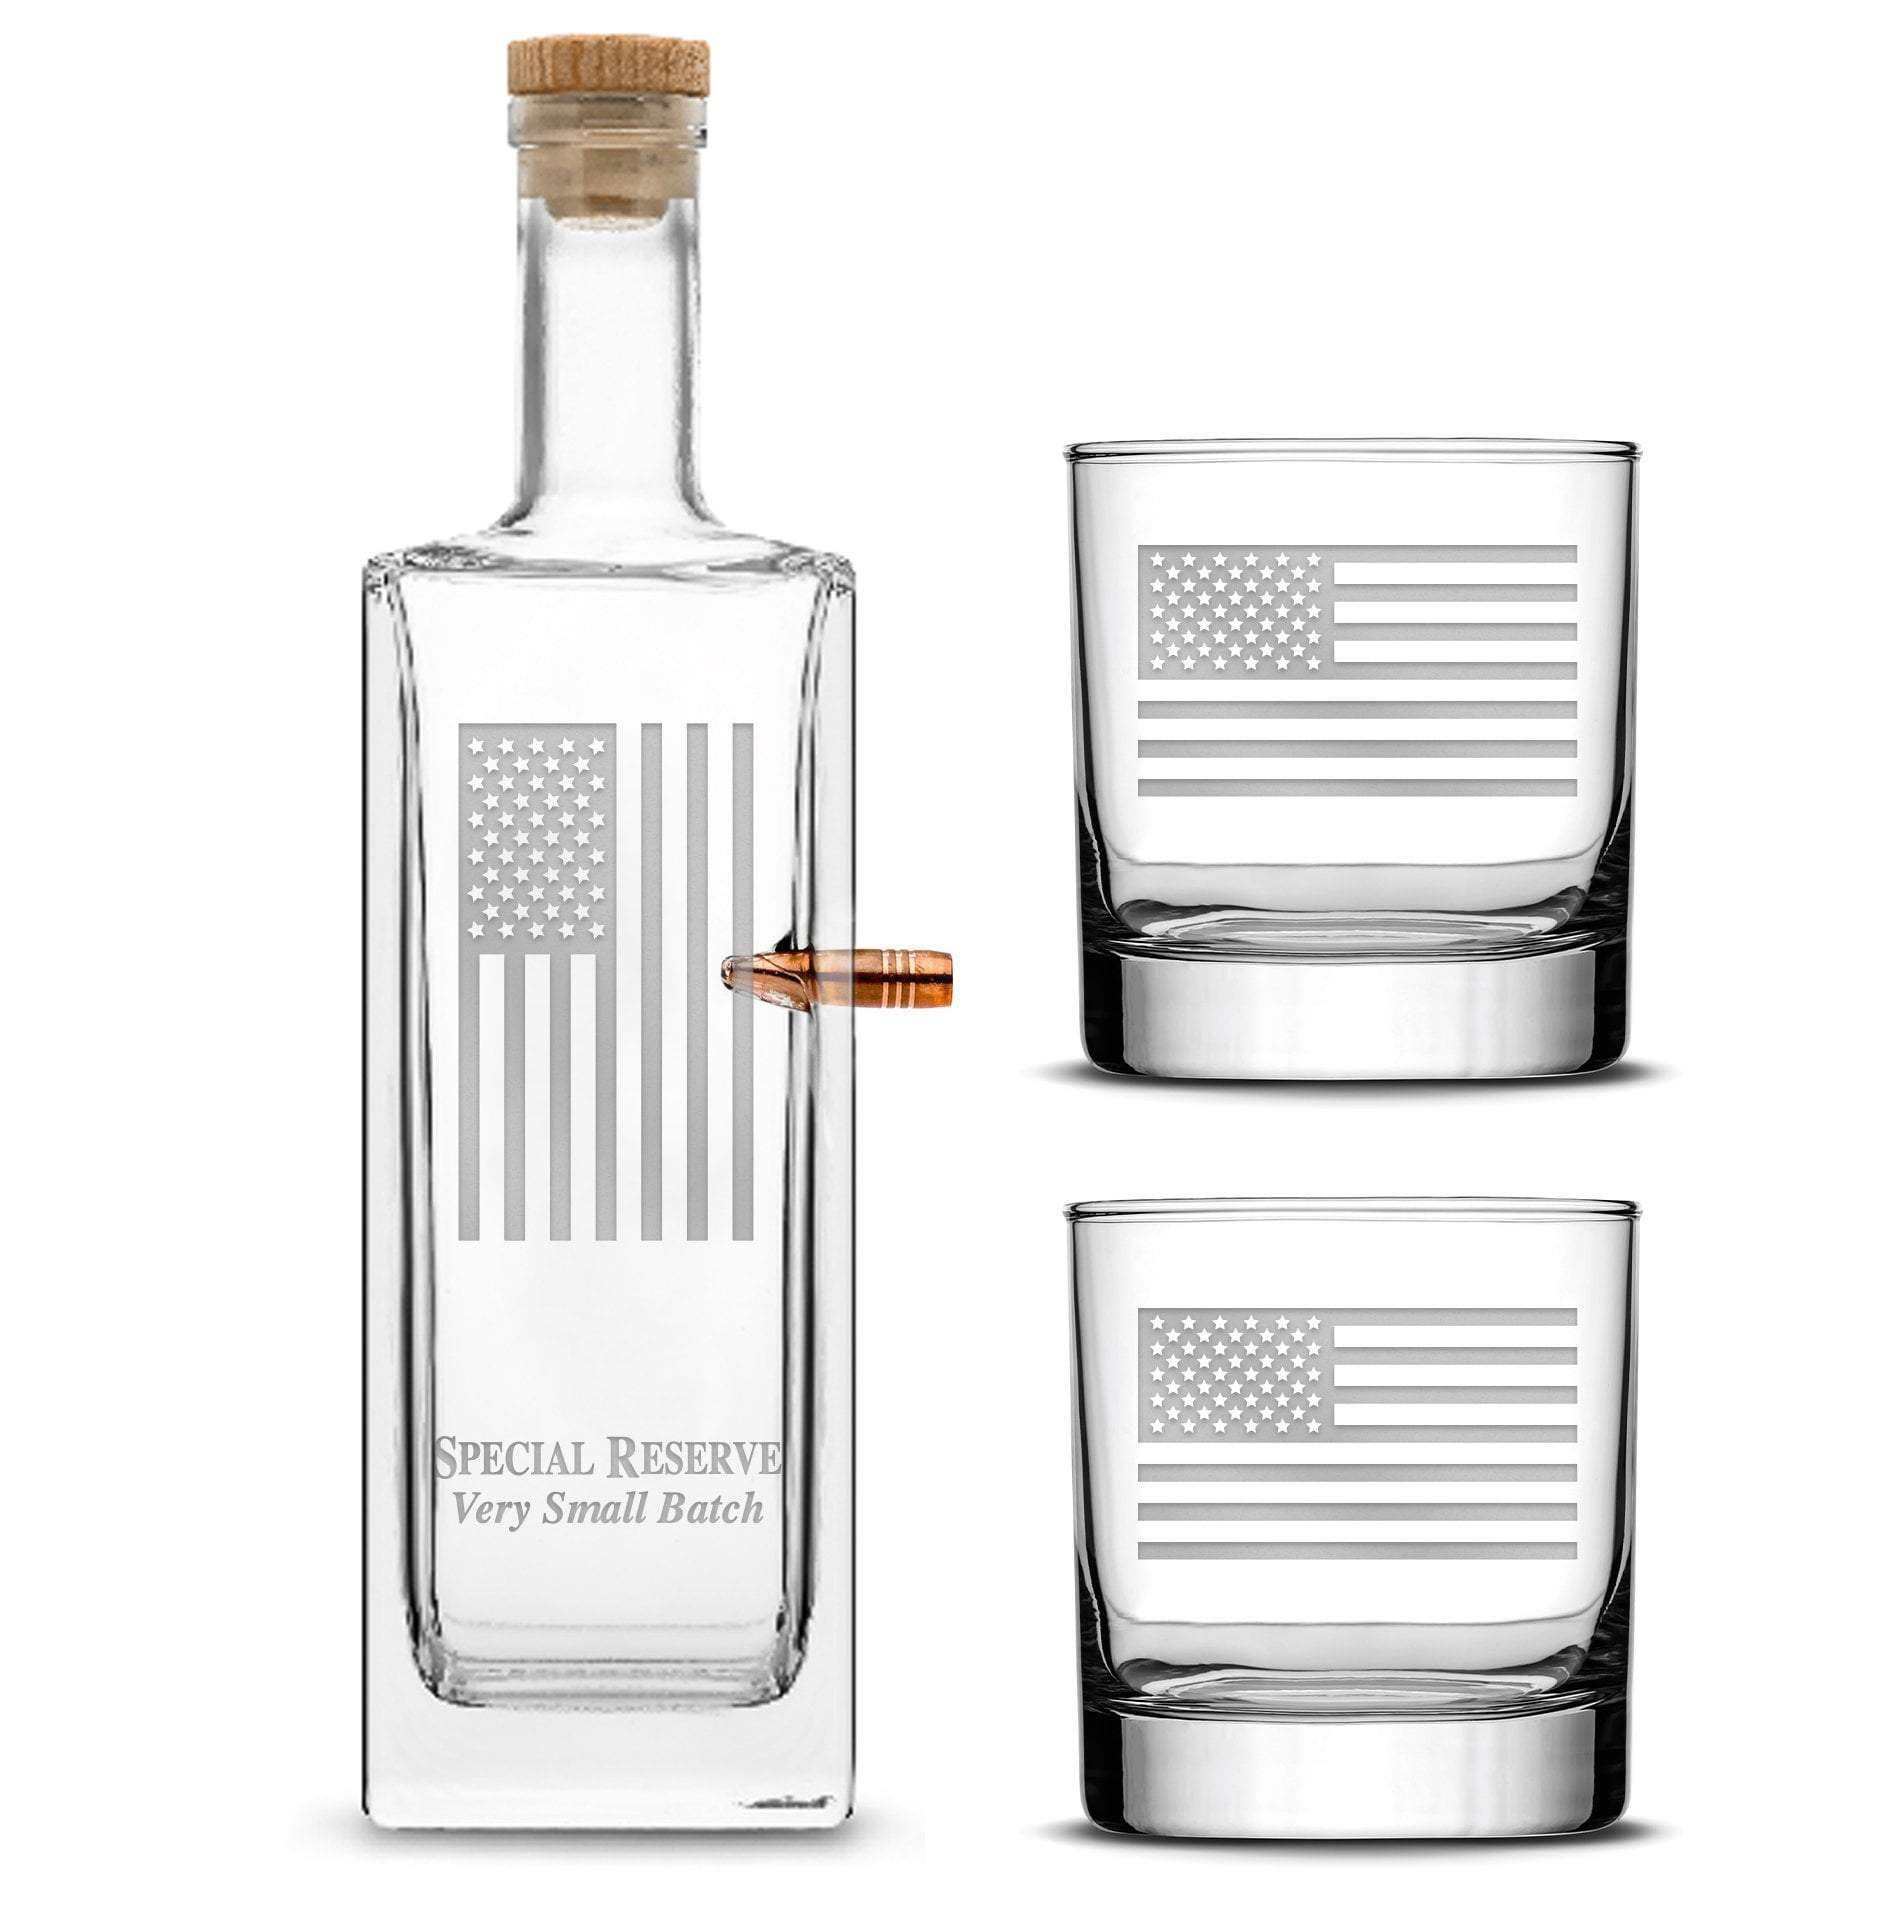glass_bottle: (349, 24, 874, 1846)
